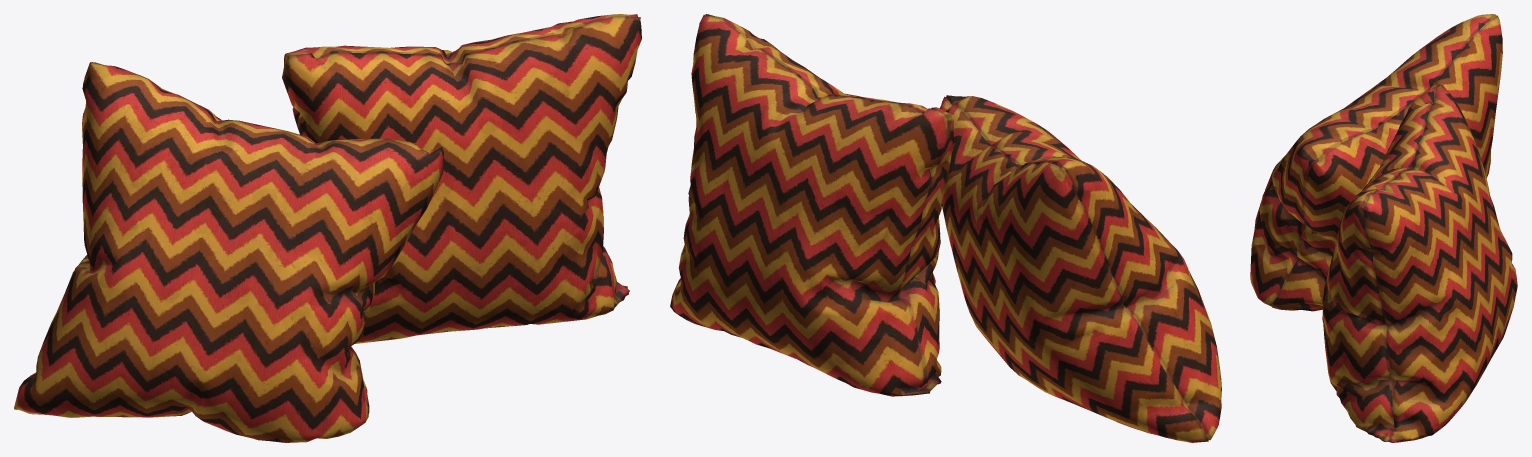
Rendered from throw_pillows_01.glb.
3 views of the same model, side by side, from view 1: azimuth 30°, elevation 25°; view 2: azimuth 150°, elevation 25°; view 3: azimuth 270°, elevation 25° (orthographic). The views are drawn at different scales.
Visible parts, largest first — view 1: throw_pillows_01_pillow02; view 2: throw_pillows_01_pillow02; view 3: throw_pillows_01_pillow02.
Part boxes in pixels (x1,y1,x2,y2): throw_pillows_01_pillow02: (14, 14, 641, 442); throw_pillows_01_pillow02: (670, 14, 1221, 442); throw_pillows_01_pillow02: (1250, 14, 1517, 442).
Bounding box in the file's own units: 0.9401 × 0.4502 × 0.4519.
Materials: 1 (1 with a texture image).
